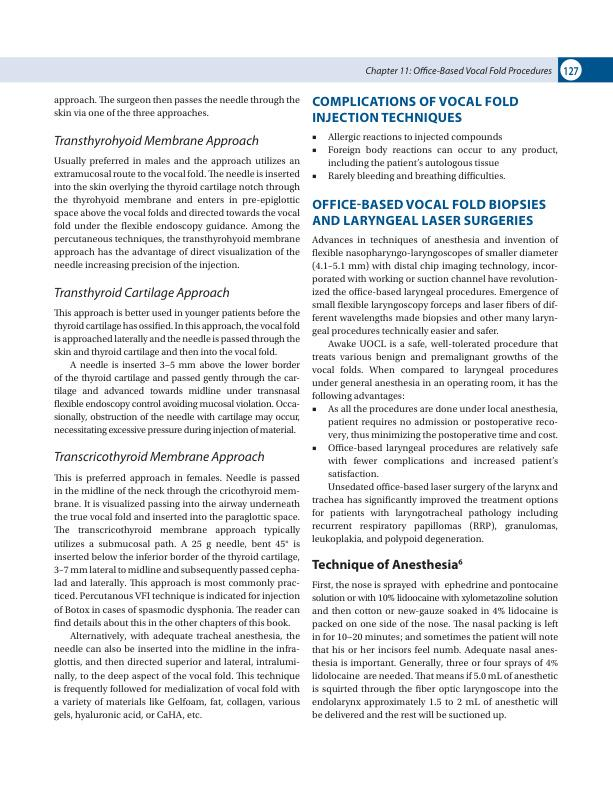header: (365, 66, 553, 76)
list: (310, 403, 559, 478), (311, 131, 558, 183)
section-heading: (311, 198, 546, 227), (312, 95, 519, 124)
sub-section-heading: (54, 134, 260, 150), (53, 451, 266, 465), (54, 286, 231, 302), (310, 558, 464, 573)
text: (52, 472, 301, 722), (310, 235, 559, 402), (311, 580, 559, 722), (52, 307, 301, 437), (53, 155, 301, 272), (310, 482, 559, 546), (53, 95, 301, 120)
